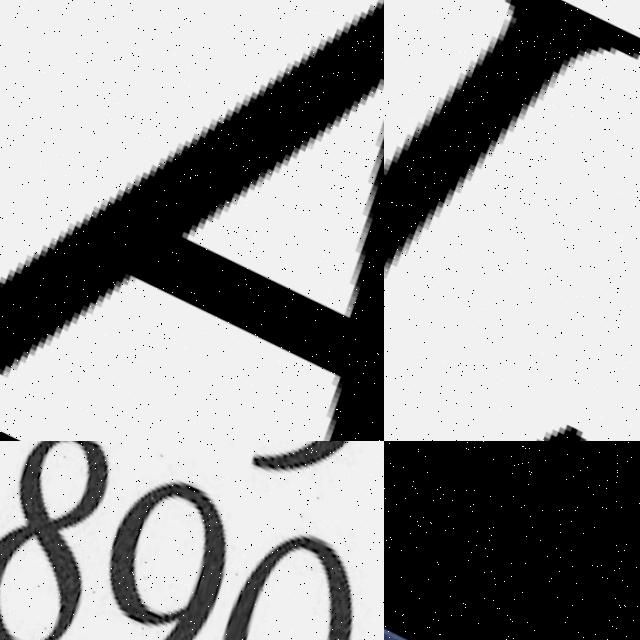0: (160, 488, 384, 640)
8: (0, 441, 145, 640)
9: (34, 441, 261, 640)
A: (0, 0, 384, 441)
L: (384, 0, 640, 441)
